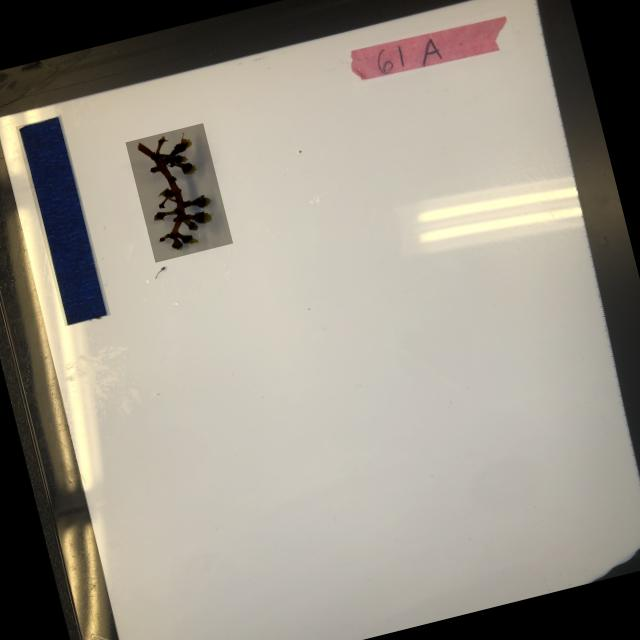index: (344, 9, 516, 88)
measure_label: (15, 115, 110, 326)
rachis_cluster: (125, 122, 233, 262)
